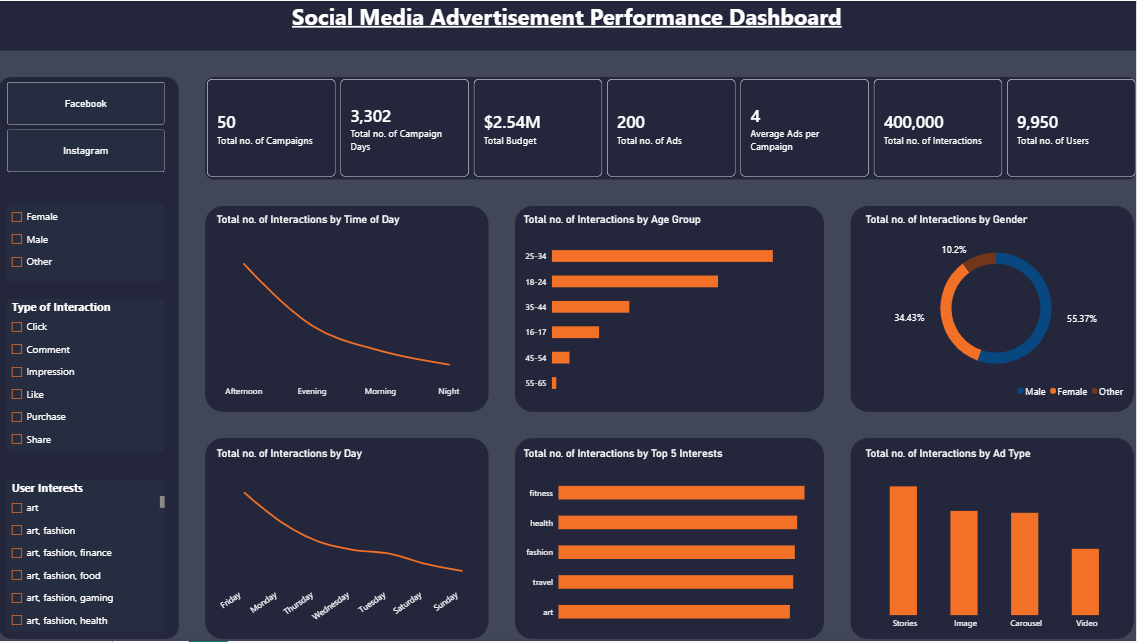

The dashboard page shown, as its layout file describes it:
{"tool":"powerbi","page":{"name":"Dashboard","canvas":[1920,1080],"ordinal":0},"visuals":[{"type":"donutChart","title":"Total no. of Interactions by Gender","fields":{"Category":["users.user_gender"],"Y":["_Measures.Total no. of Interactions"]},"box":[1447.7,345.1,472.3,345.1],"z":0},{"type":"clusteredBarChart","title":"Total no. of Interactions by Age Group","fields":{"Category":["users.age_group"],"Y":["_Measures.Total no. of Interactions"]},"box":[871.3,345.1,530.1,345.1],"z":1},{"type":"clusteredBarChart","title":"Total no. of Interactions by Top 5 Interests","fields":{"Category":["users.interests"],"Y":["_Measures.Total no. of Interactions"]},"box":[871.3,738.3,530.1,341.2],"z":2},{"type":"slicer","fields":{"Values":["users.user_gender"]},"box":[15.4,345.1,266,129.2],"z":3},{"type":"advancedSlicerVisual","fields":{"Values":["ad_events.ad_platform"]},"box":[15.4,136.9,266,152.3],"z":4},{"type":"slicer","fields":{"Values":["ad_events.event_type"]},"box":[15.4,503.1,266,256.4],"z":5},{"type":"lineChart","title":"Total no. of Interactions by Time of Day","fields":{"Category":["ad_events.time_of_day"],"Y":["_Measures.Total no. of Interactions"]},"box":[352.8,345.1,470.4,345.1],"z":6},{"type":"clusteredColumnChart","title":"Total no. of Interactions by Ad Type","fields":{"Category":["ad_events.ad_type"],"Y":["_Measures.Total no. of Interactions"]},"box":[1447.7,738.3,472.3,341.2],"z":7},{"type":"lineChart","title":"Total no. of Interactions by Day","fields":{"Category":["Dim_Date.Day Name"],"Y":["_Measures.Total no. of Interactions"]},"box":[352.8,738.3,470.4,341.2],"z":8},{"type":"cardVisual","fields":{"Data":["_Measures.Total no. of Campaigns","_Measures.Total no. of Campaign Days","_Measures.Total Budget for all Campaigns","_Measures.Total no. of Ads","_Measures.Average no. of Ads per Campaign","_Measures.Total no. of Interactions","_Measures.Total no. of Users"]},"box":[352.8,131.1,1567.2,165.8],"z":9},{"type":"slicer","fields":{"Values":["users.interests"]},"box":[15.4,807.7,266,256.4],"z":10},{"type":"textbox","box":[0,0,1920,84.8],"z":11}]}

Visuals, with their boxes in screenshot pixels (x1, y1, x2, y2), scaled from the page's 1920x1080 canvas onto the 1137x642 screenshot:
"Total no. of Interactions by Gender" donutChart: [x1=857, y1=205, x2=1136, y2=410]
"Total no. of Interactions by Age Group" clusteredBarChart: [x1=516, y1=205, x2=830, y2=410]
"Total no. of Interactions by Top 5 Interests" clusteredBarChart: [x1=516, y1=439, x2=830, y2=641]
slicer - users.user_gender: [x1=9, y1=205, x2=167, y2=282]
advancedSlicerVisual - ad_events.ad_platform: [x1=9, y1=81, x2=167, y2=172]
slicer - ad_events.event_type: [x1=9, y1=299, x2=167, y2=451]
"Total no. of Interactions by Time of Day" lineChart: [x1=209, y1=205, x2=487, y2=410]
"Total no. of Interactions by Ad Type" clusteredColumnChart: [x1=857, y1=439, x2=1136, y2=641]
"Total no. of Interactions by Day" lineChart: [x1=209, y1=439, x2=487, y2=641]
cardVisual - _Measures.Total no. of Campaigns x _Measures.Total no. of Campaign Days: [x1=209, y1=78, x2=1136, y2=176]
slicer - users.interests: [x1=9, y1=480, x2=167, y2=633]
textbox: [x1=0, y1=0, x2=1136, y2=50]
